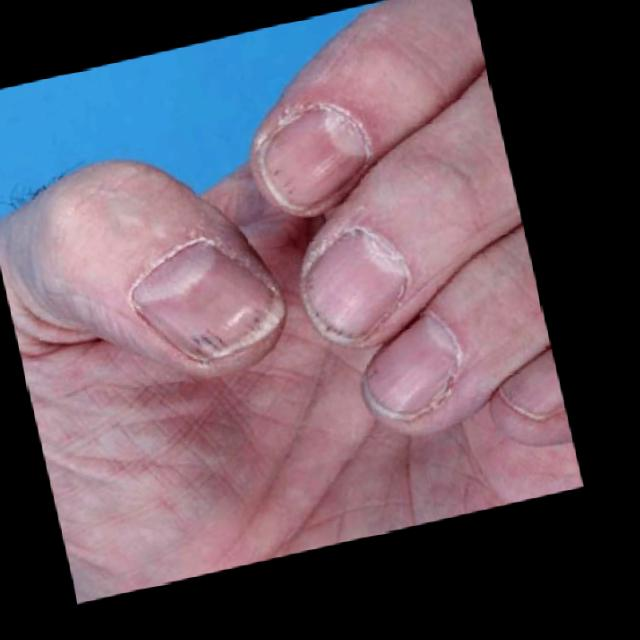Nail: (130, 237, 284, 364), (298, 227, 410, 345), (254, 105, 372, 214), (363, 311, 460, 423)
